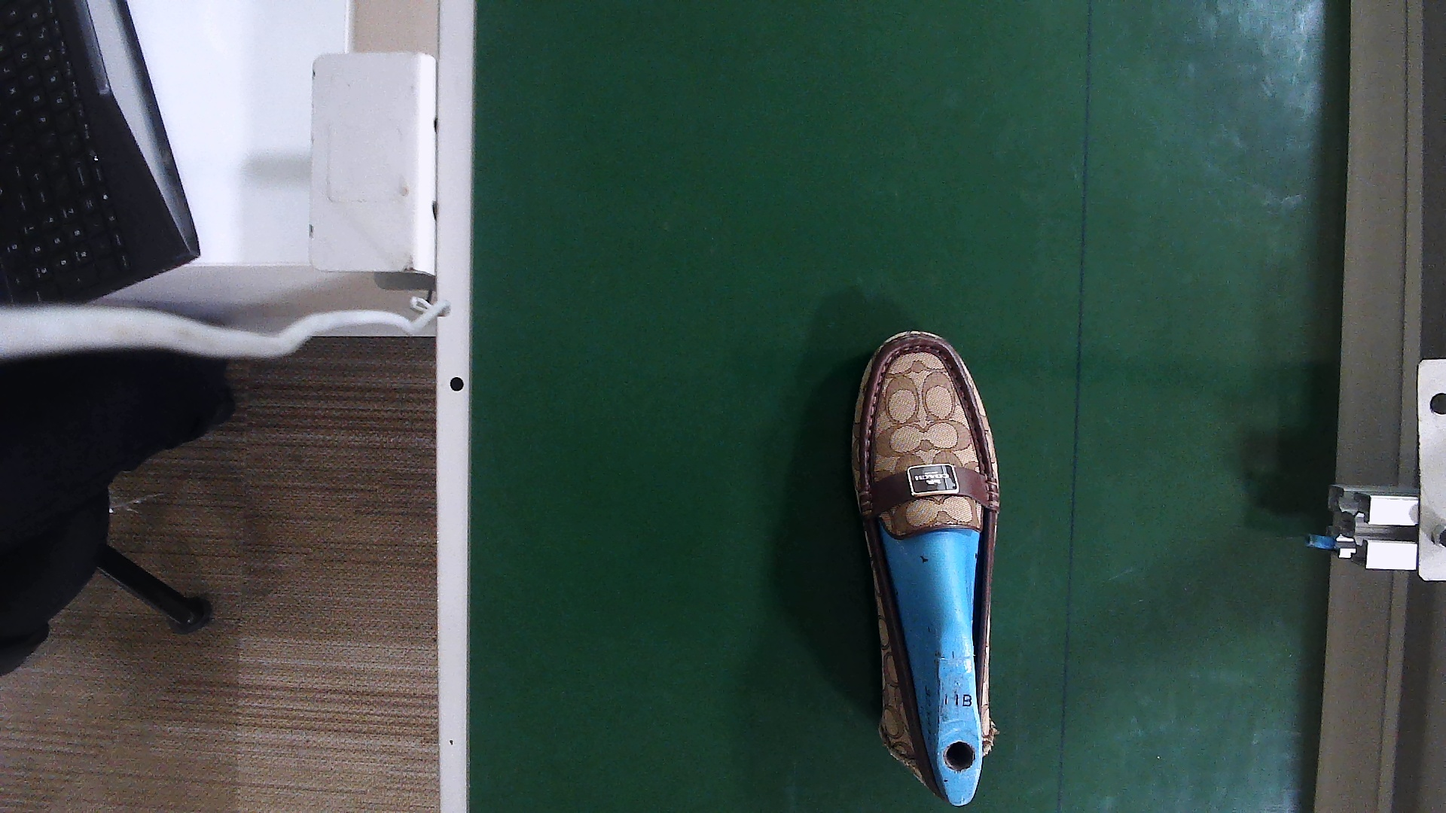shoe: (858, 333, 996, 804)
